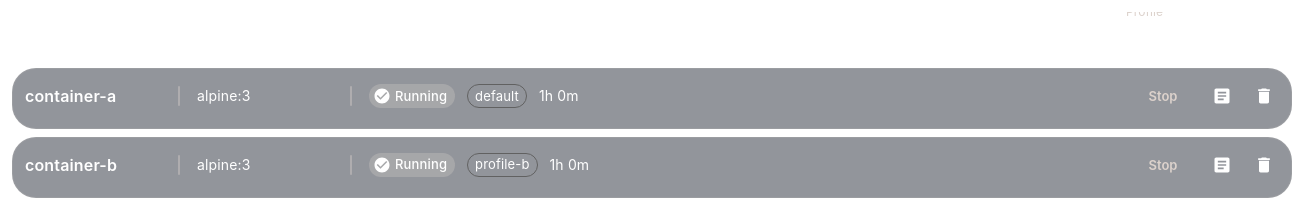
Test: ContainersView › narrows the rendered list to the selected profile
Expected: the text "container-a" is shown, x1=25 y1=86 x2=116 y2=106
Expected: the text "container-b" is shown, x1=25 y1=155 x2=117 y2=175
Select "profile-b" in the dropdown labelled "Profile": (1202, 32) x1=1112 y1=12 x2=1292 y2=52
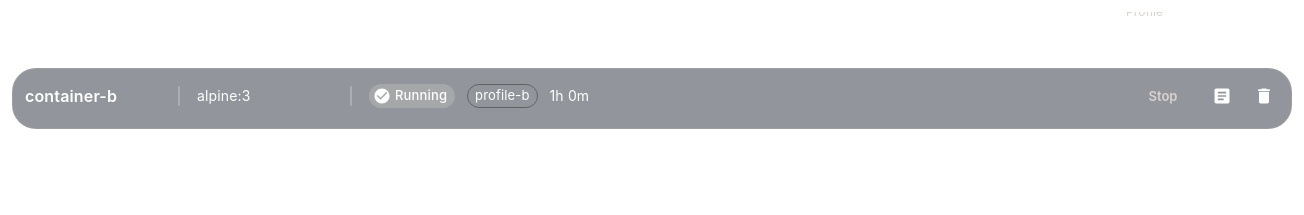
Expected: the text "container-b" is shown, x1=25 y1=86 x2=117 y2=106
Now the text "container-a" is gone
